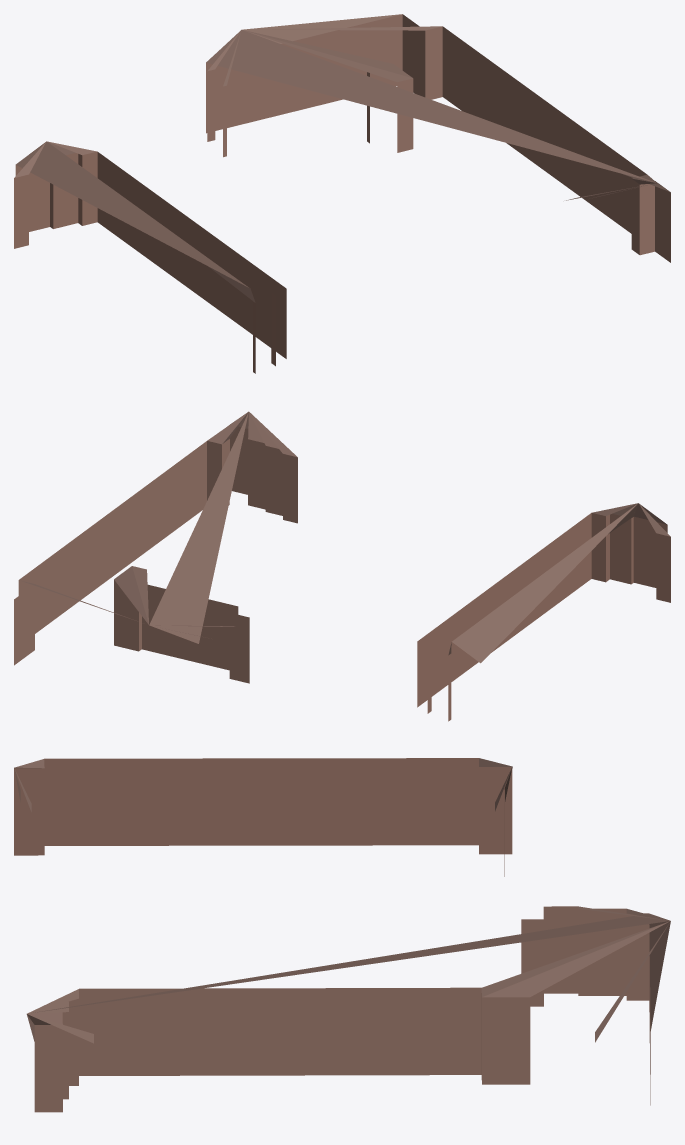
The model's file is c_1632_17834_buildings_residential.glb.
3 renders of one model, top to bottom at view 1: azimuth 30°, elevation 25°; view 2: azimuth 150°, elevation 25°; view 3: azimuth 270°, elevation 25°, orthographic. The views are drawn at different scales.
Visible parts, largest first — view 1: geometry_0; view 2: geometry_0; view 3: geometry_0.
Boxes of the visible parts, x1,y1,x2,y2 form: geometry_0: (14, 14, 670, 373); geometry_0: (14, 411, 670, 721); geometry_0: (14, 758, 670, 1112).
Bounding box in the file's own units: 112 × 19.59 × 108.
